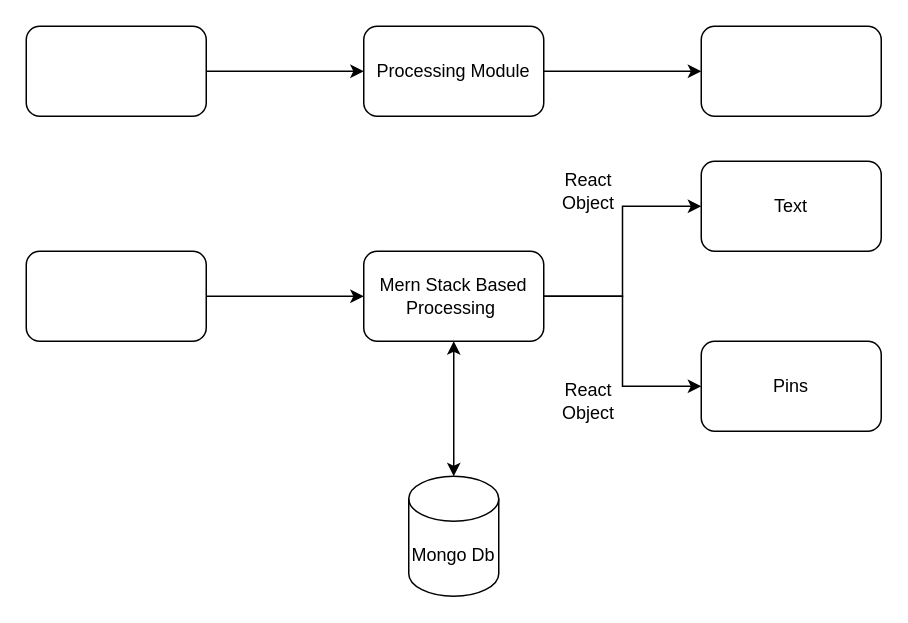
Image size: 908x623. Some labels were removed from this diagram. The box of each missing label's shape, as (x1, y1, x2, y2) in pixels:
Display Module: (700, 25, 881, 116)
Input Module: (25, 25, 206, 116)
Text Information: (25, 250, 206, 341)
